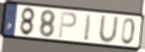0: (121, 17, 137, 46)
8: (38, 9, 57, 39), (19, 7, 36, 37)
I: (83, 12, 94, 42)
P: (57, 11, 78, 40)
U: (98, 15, 120, 44)
